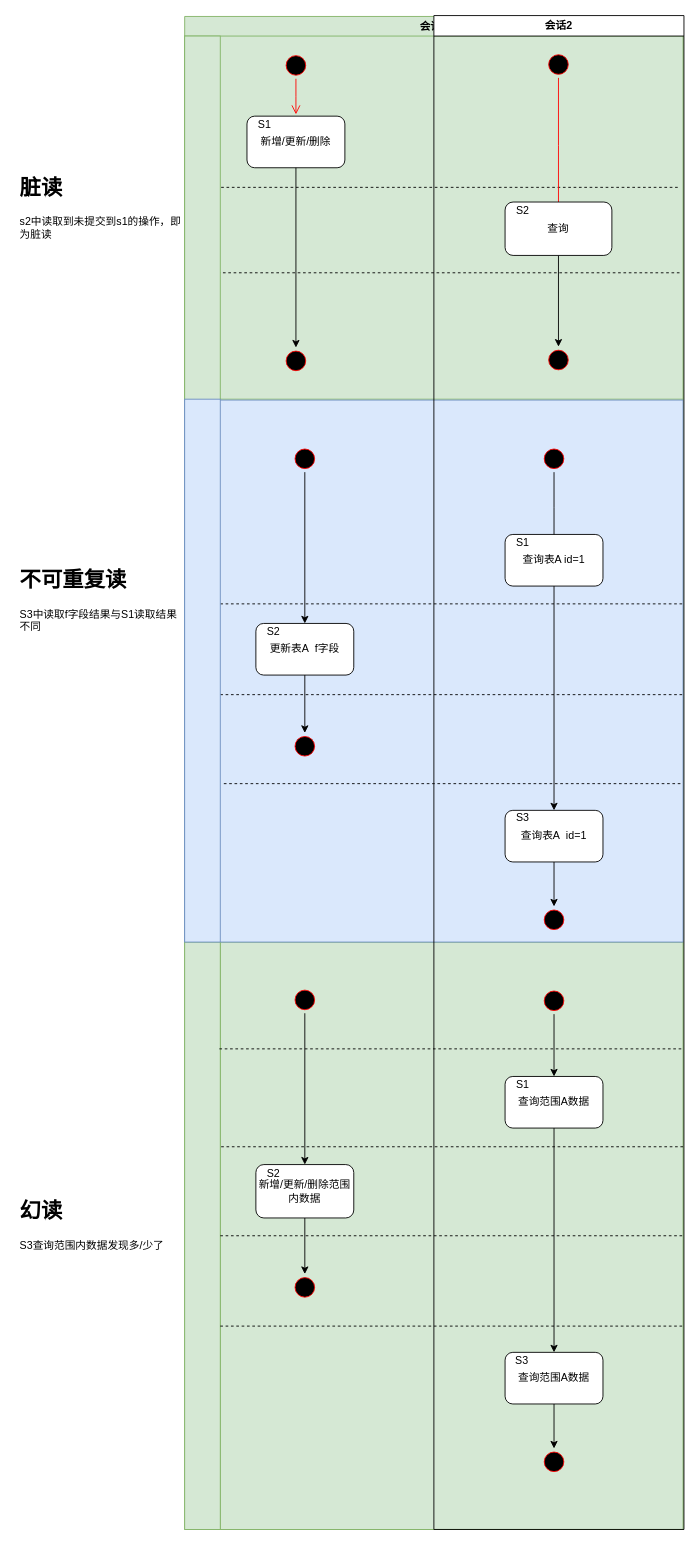
Some shapes in this 700 by 1545 pixel diagram are drawn without their labels. The centre of each missing label's shape, as x and y in pixels:
"不可重复度" belongs at (x=202, y=670).
"幻读" belongs at (x=202, y=1235).
"脏 读" belongs at (x=202, y=218).
